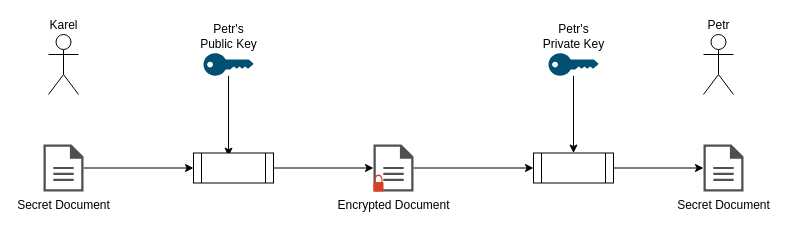
The diagram is 787 pixels wide and 229 high, and some of its shapes have lost their labels. The shapes that lost their labels are listed below. From the top down, each one's centre as x and y in pixels, then its label:
At (x=233, y=167): "Encrypt".
At (x=573, y=167): "Decrypt".
